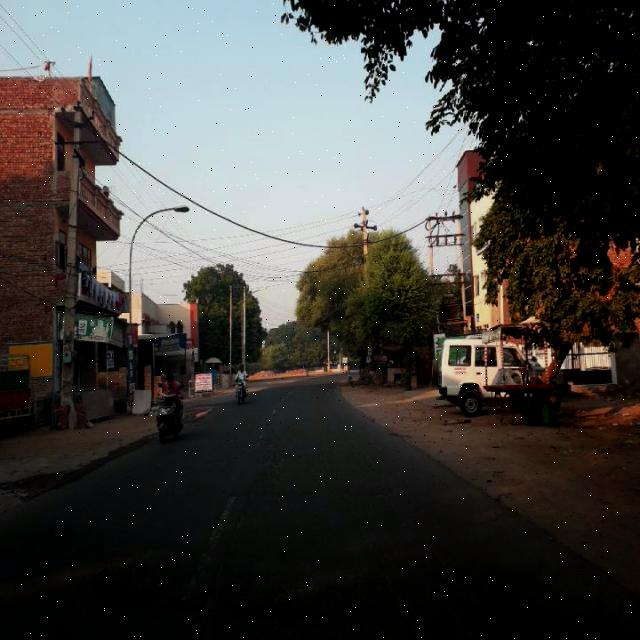D00: (377, 530, 491, 636), (189, 475, 255, 637)
D44: (184, 488, 241, 602)
